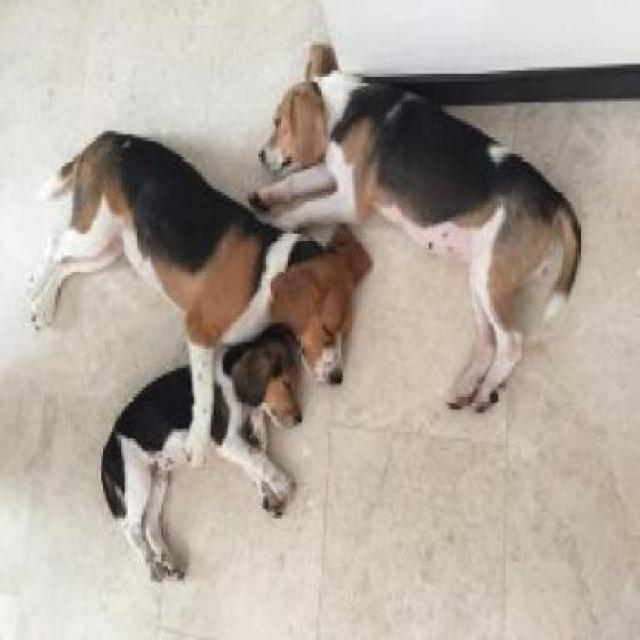Dog: (245, 21, 583, 422), (23, 111, 377, 392), (98, 322, 310, 589)
